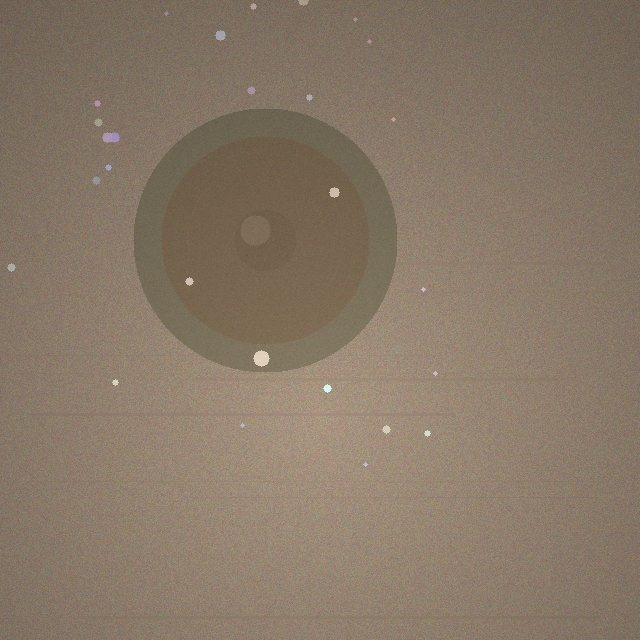overburn: (133, 108, 397, 372)
